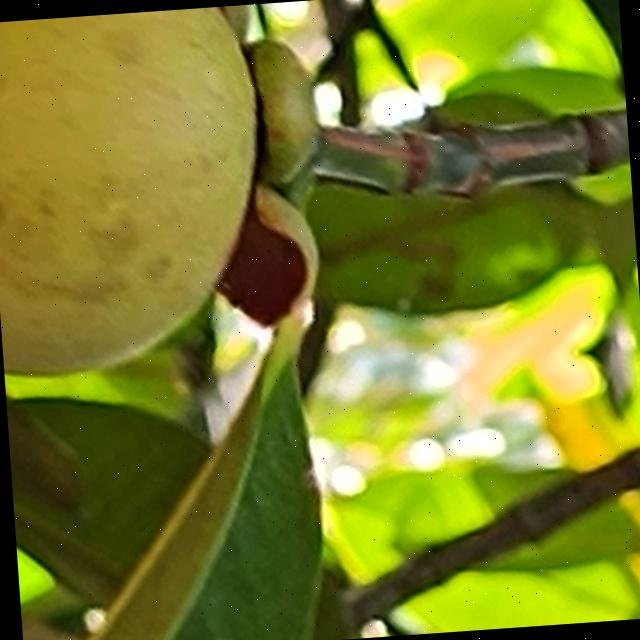mangosteen: (0, 0, 528, 568)
